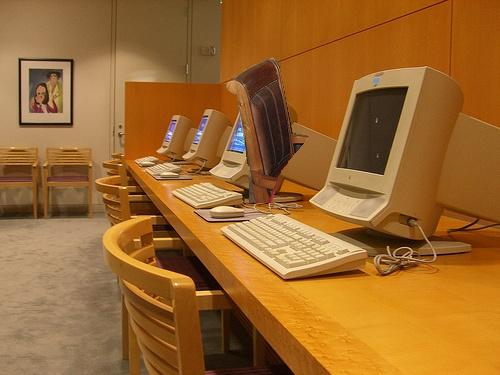tampered: (227, 58, 309, 203)
